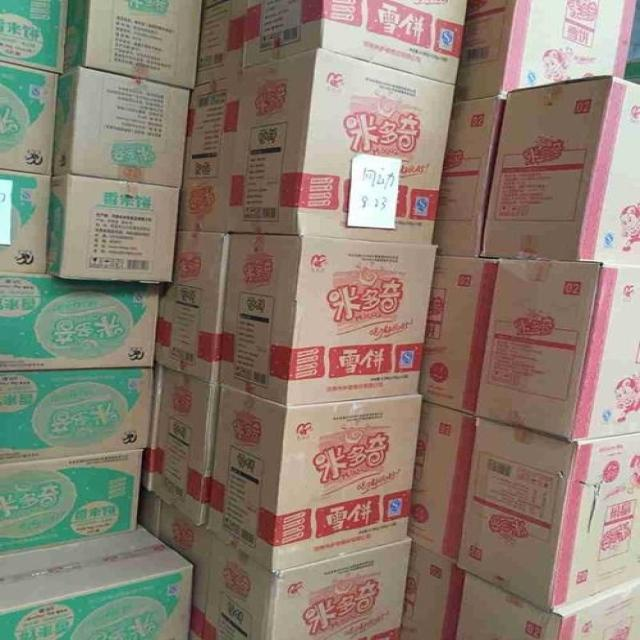box: (228, 47, 456, 244), (206, 386, 422, 573), (218, 234, 436, 406), (454, 416, 640, 613), (480, 74, 640, 264), (475, 260, 640, 442), (0, 523, 195, 640), (200, 534, 412, 640), (454, 0, 639, 102), (243, 0, 467, 84), (52, 66, 191, 187), (0, 273, 160, 371), (0, 449, 143, 555), (0, 367, 154, 464), (45, 174, 180, 283), (419, 255, 499, 415), (63, 0, 204, 90), (456, 573, 640, 640), (434, 96, 506, 257), (154, 231, 230, 383), (406, 402, 476, 562), (150, 366, 220, 526), (178, 74, 241, 233), (157, 499, 212, 640), (0, 61, 58, 175), (399, 542, 466, 640), (0, 169, 51, 273), (196, 0, 248, 84)
